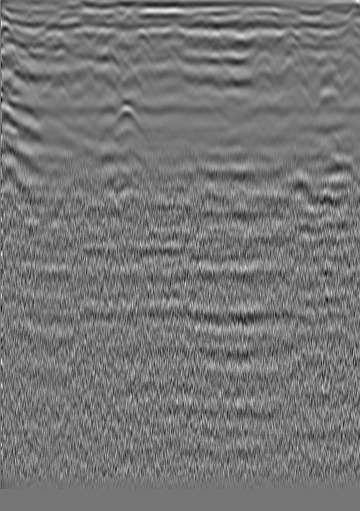가스: (106, 140, 145, 174)
상수: (31, 27, 51, 47)
오수: (295, 25, 315, 45)
우수: (164, 20, 184, 40)
